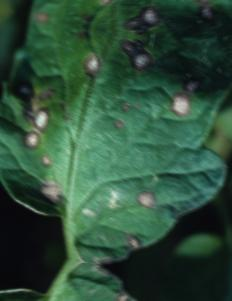Tomato Septoria leaf spot: (0, 10, 232, 291)
